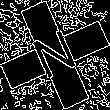N_SE: (26, 23, 84, 87)
